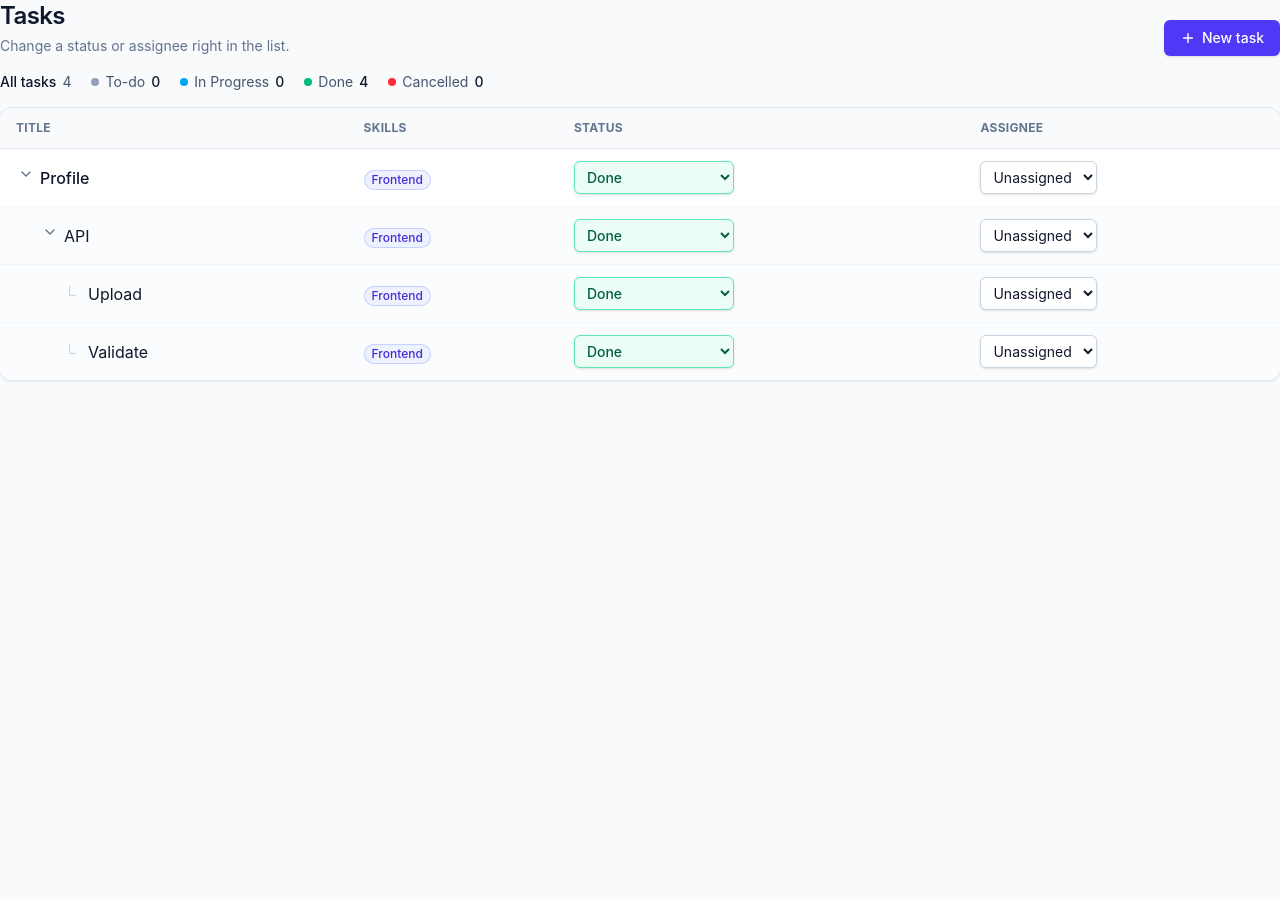
Test: TaskListPage tree › confirming sends confirmCascade and refreshes the whole tree
Step 1. Select "To-do" in the 5th dropdown → (654,294), box [574,277,734,310]
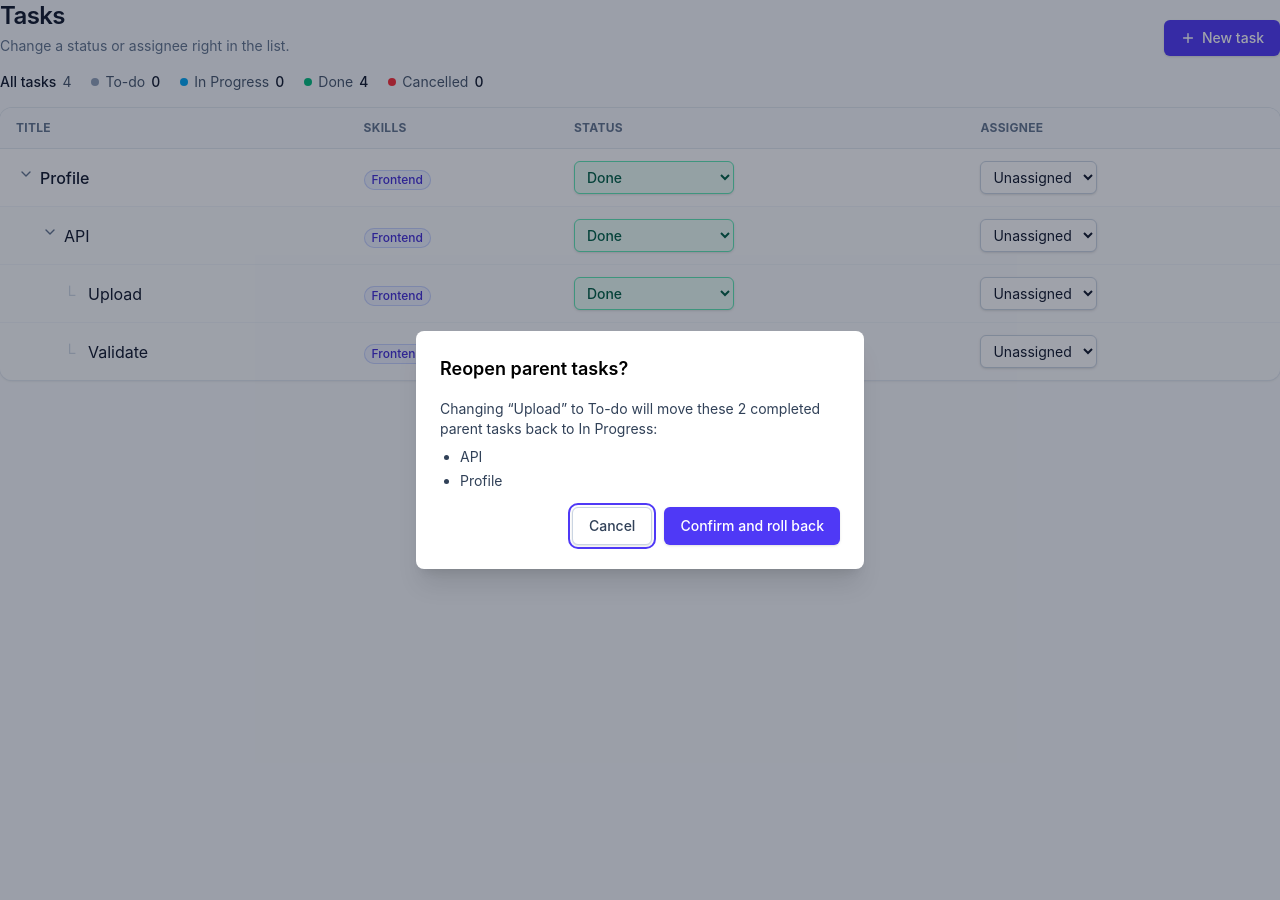
Step 2. Click the button "Confirm and roll back" → (752,526), box [664,507,840,545]
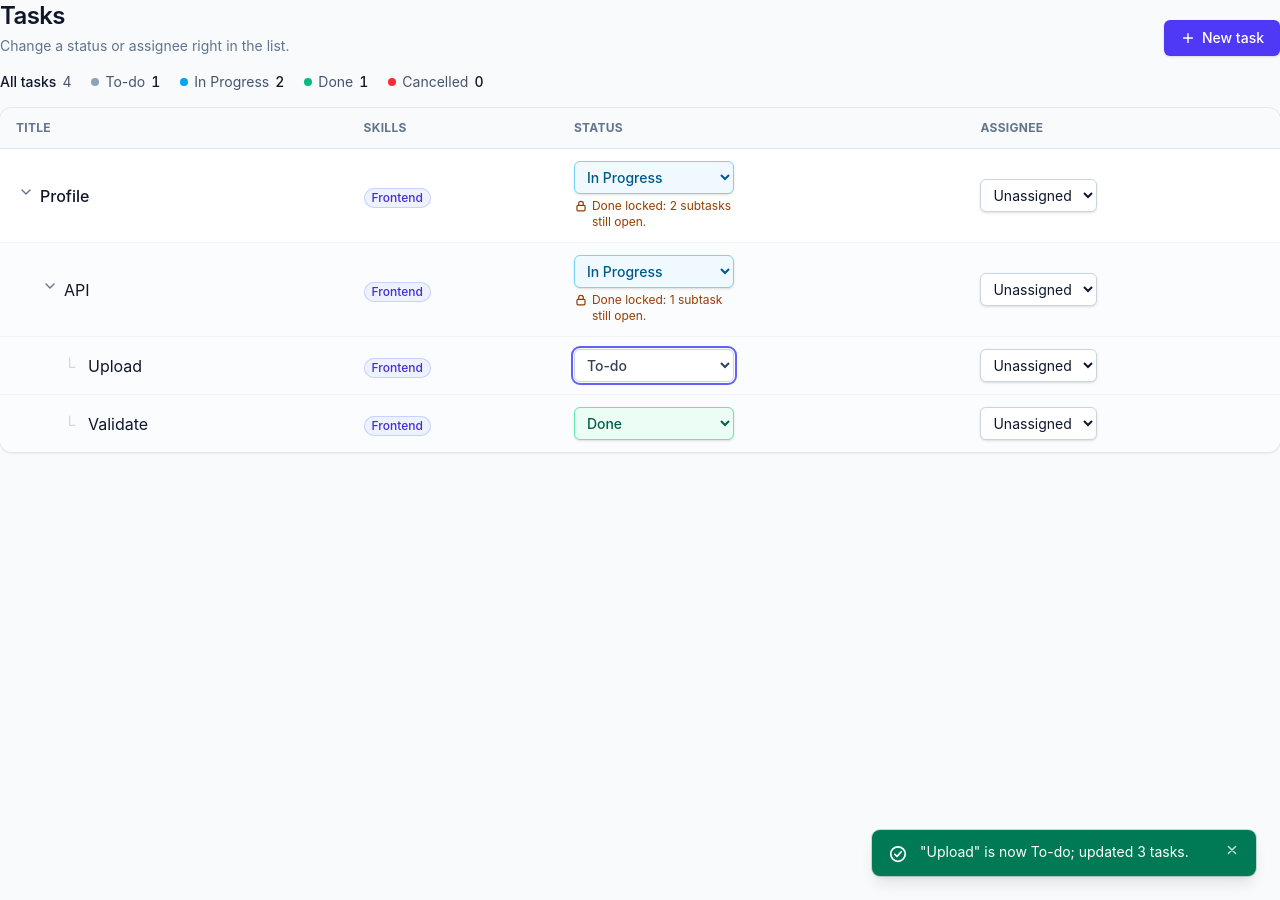
Check: the text "\"Upload\" is now To-do; updated 3 tasks." is shown, box [920,842,1212,862]
Check: the dialog is gone
